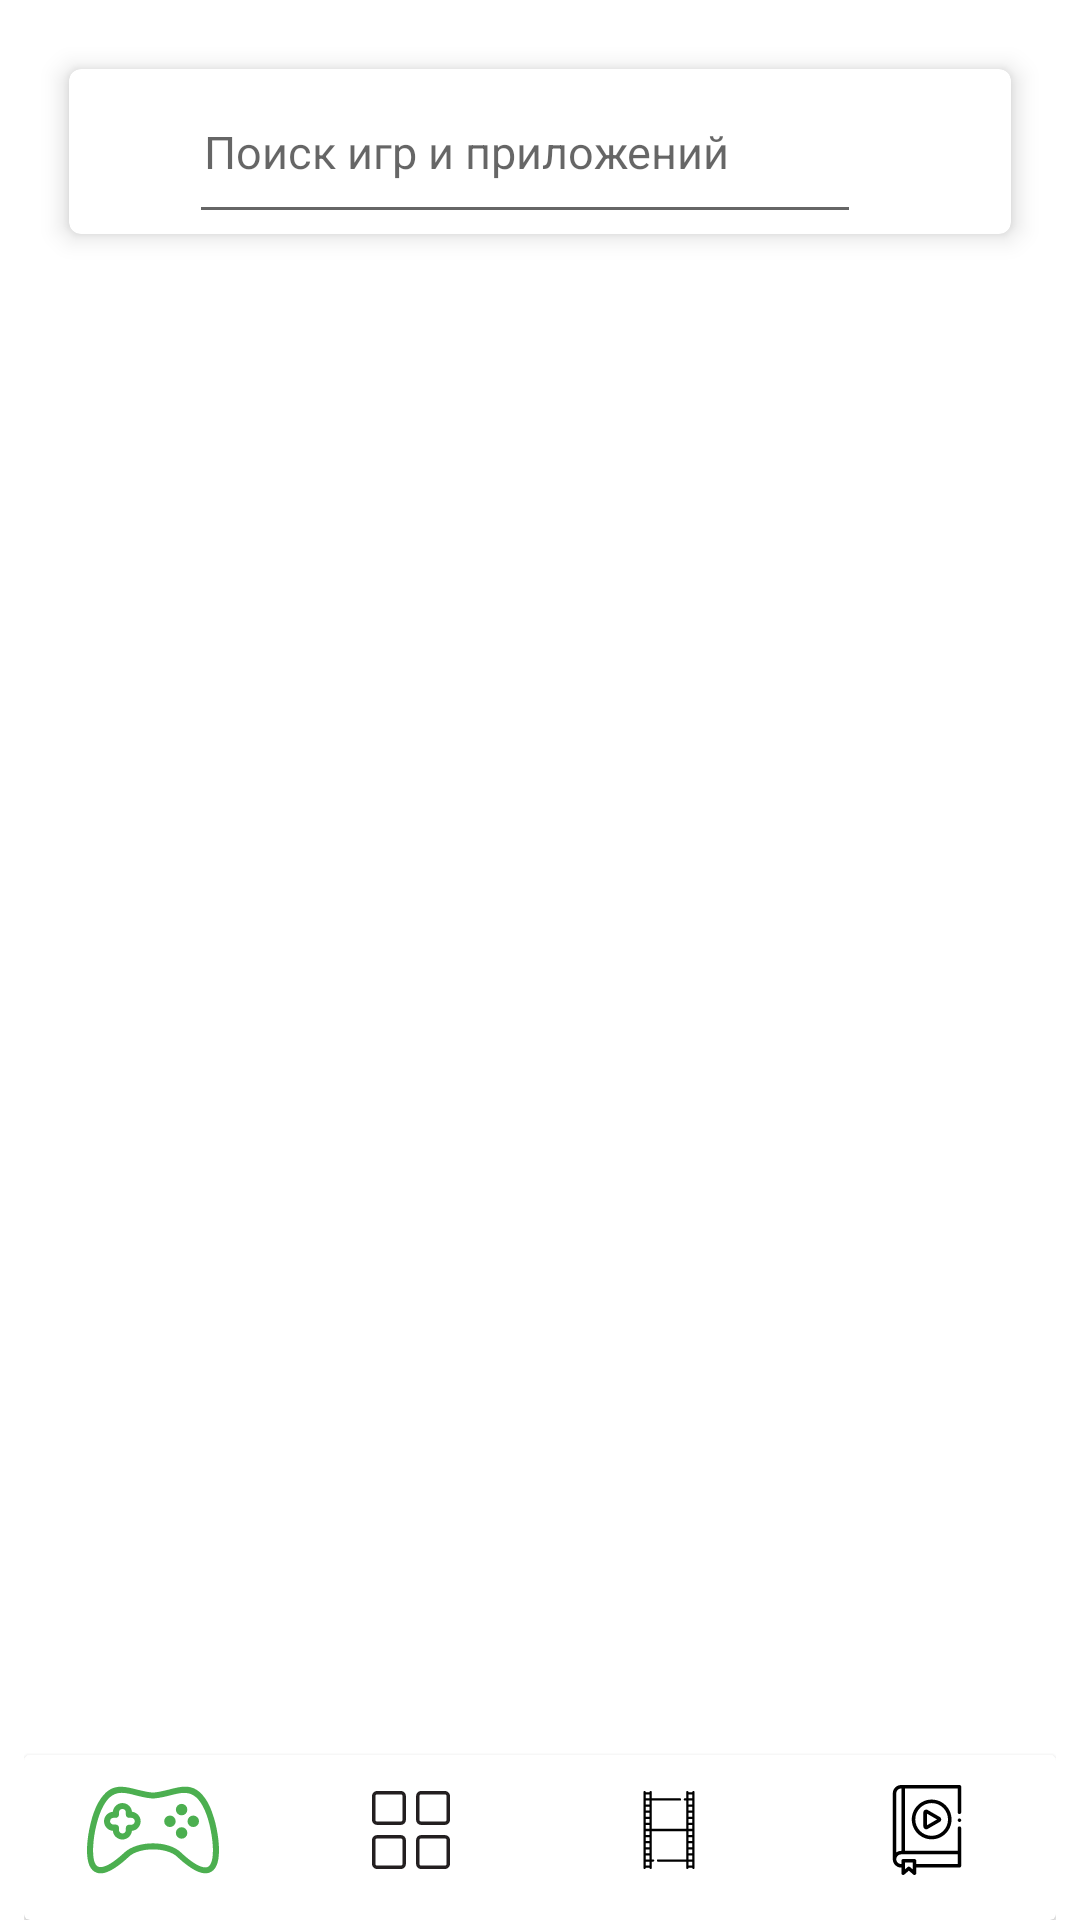

Where to tap for icons on this 1080px×1920px app screen, as (x,y):
app: (411,1830)
audio book: (927,1830)
console: (153,1830)
film strip: (669,1830)
